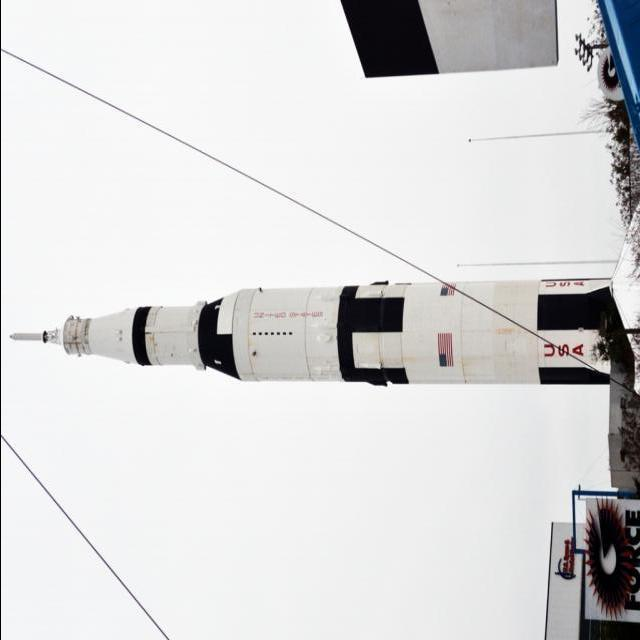Missile: (58, 234, 640, 429)
